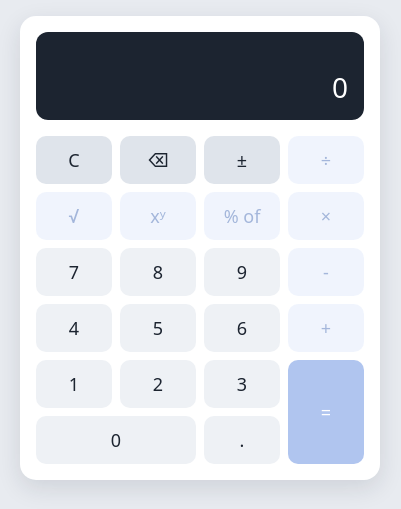
Test case: Calculator keypad › chooses an operator with the Add button
Click the button "1".
click(74, 384)  # box [36,360,112,408]
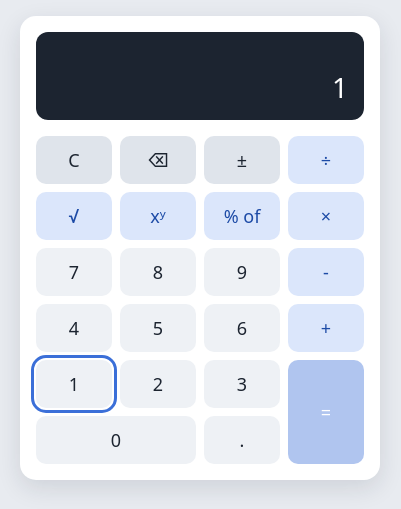
Click the button "2".
click(158, 384)  # box [120,360,196,408]
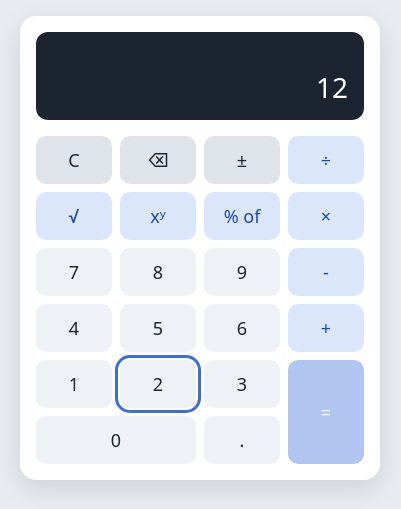
Click the button named "Add".
click(326, 328)  # box [288,304,364,352]
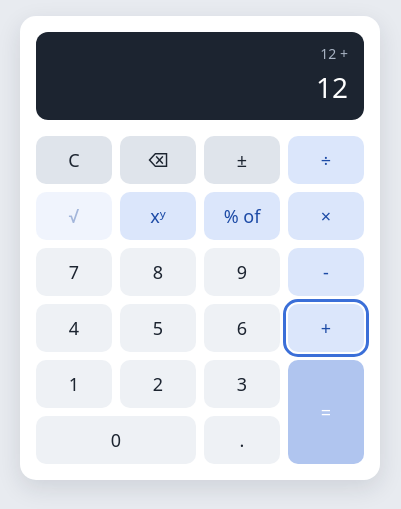
Expected: the text "12 +" is shown, [320,44,348,63]
